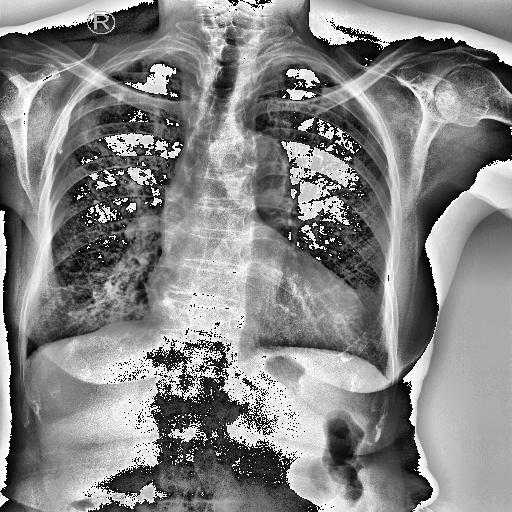0- Aortic enlargement: (150, 120, 308, 268), (208, 122, 296, 238), (163, 128, 292, 206)
11- Pleural thickening: (42, 38, 172, 162), (46, 40, 180, 154), (240, 51, 385, 109)
13- Pulmonary fibrosis: (35, 254, 142, 326)
2- Calcification: (163, 128, 292, 206)
3- Cardiomegaly: (148, 226, 371, 372), (148, 270, 368, 344)
5- ILD: (62, 234, 153, 332), (35, 254, 142, 326)
